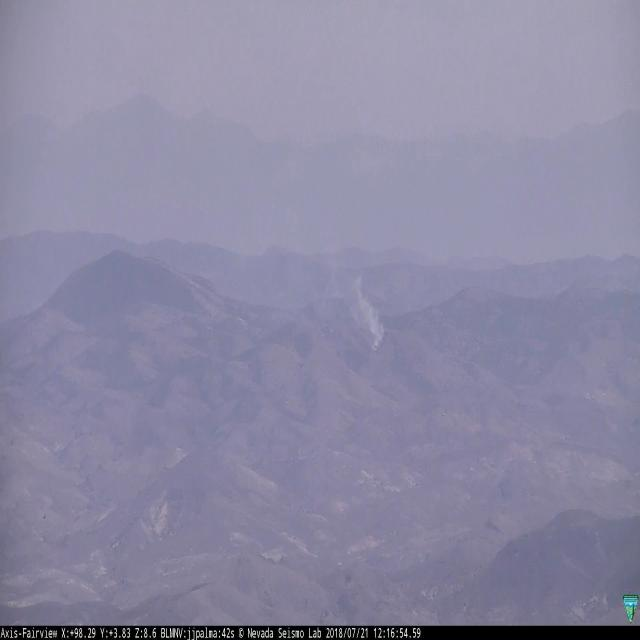smoke: (348, 273, 388, 349)
